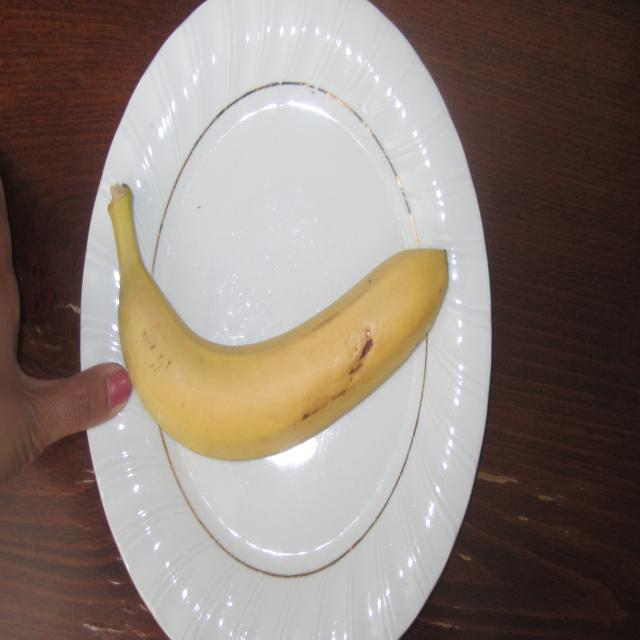banana: (106, 179, 460, 466)
